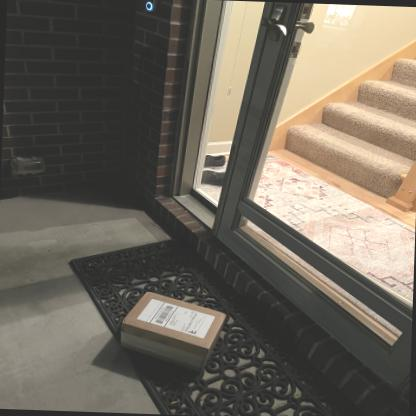box: (111, 282, 226, 361)
